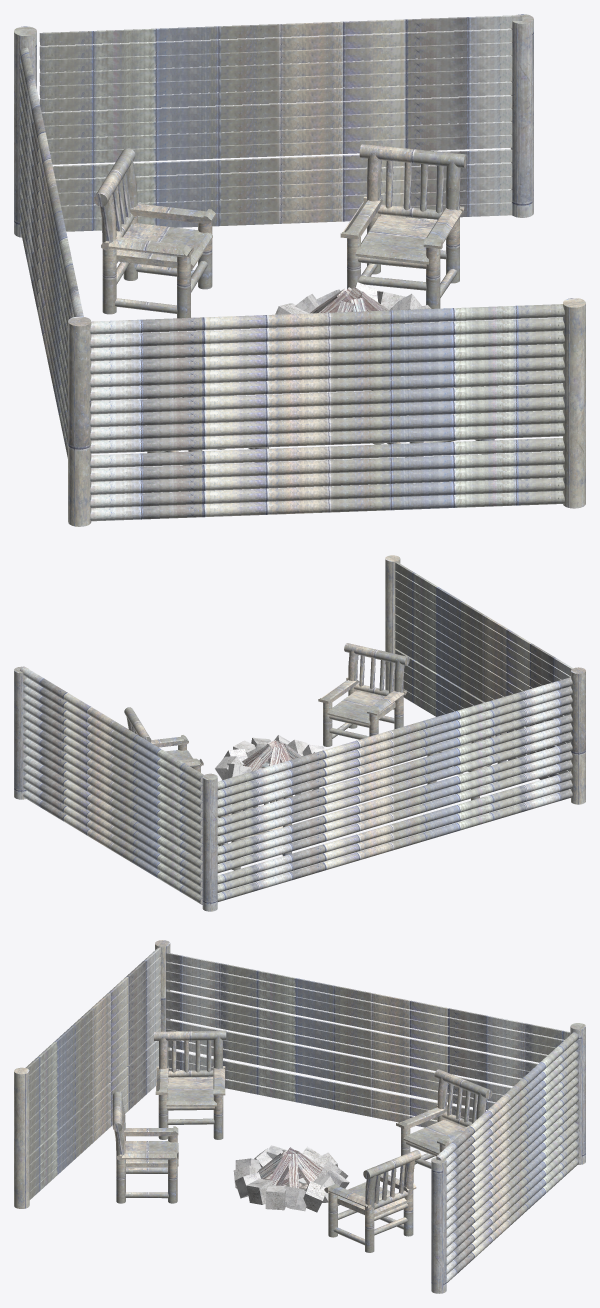
3 renders of one model, top to bottom at view 1: azimuth 30°, elevation 25°; view 2: azimuth 150°, elevation 25°; view 3: azimuth 270°, elevation 25°, orthographic. The views are drawn at different scales.
Parts seen in each view (by area): view 1: Button2, Button1, Meshpart11, Meshpart19, Meshpart4, Meshpart18, Meshpart43, Meshpart3, Meshpart6, Meshpart35, Meshpart7, Meshpart12 (+39 smaller); view 2: Button3, Meshpart23, Meshpart10, Meshpart40, Meshpart28, Meshpart21, Meshpart46, Meshpart22, Meshpart27, Meshpart31, Meshpart5, Meshpart14 (+37 smaller); view 3: Meshpart46, Meshpart23, Meshpart15, Meshpart40, Meshpart27, Meshpart14, Meshpart21, Button4, Button3, Button1, Meshpart22, Meshpart28 (+46 smaller).
Boxes of the visible parts, x1,y1,x2,y2 form: Button2: (101, 203, 215, 318); Button1: (340, 196, 464, 308); Meshpart11: (39, 15, 522, 45); Meshpart19: (90, 451, 564, 481); Meshpart4: (90, 344, 564, 374); Meshpart18: (90, 370, 564, 400); Meshpart43: (90, 410, 564, 440); Meshpart3: (90, 304, 564, 334); Meshpart6: (39, 55, 512, 85); Meshpart35: (90, 477, 564, 508); Meshpart7: (39, 29, 512, 59); Meshpart12: (90, 384, 564, 414); Button3: (318, 677, 406, 746); Meshpart23: (217, 686, 572, 799); Meshpart10: (217, 771, 572, 884); Meshpart40: (217, 704, 572, 817); Meshpart28: (217, 760, 572, 873); Meshpart21: (217, 732, 572, 845); Meshpart46: (217, 677, 572, 790); Meshpart22: (217, 742, 572, 855); Meshpart27: (217, 714, 572, 827); Meshpart31: (217, 789, 572, 901); Meshpart5: (217, 780, 572, 892); Meshpart14: (217, 723, 572, 835); Meshpart46: (166, 953, 570, 1039); Meshpart23: (166, 962, 563, 1047); Meshpart15: (166, 971, 555, 1054); Meshpart40: (166, 980, 547, 1062); Meshpart27: (166, 991, 537, 1071); Meshpart14: (166, 1000, 529, 1078); Meshpart21: (166, 1009, 521, 1086); Button4: (155, 1066, 225, 1139); Button3: (116, 1126, 178, 1203); Button1: (324, 1167, 416, 1252); Meshpart22: (166, 1020, 511, 1094); Meshpart28: (168, 1040, 495, 1109).
Bounding box in the file's own units: 12.3 × 3.55 × 13.57.
Materials: 5 (5 with a texture image).
